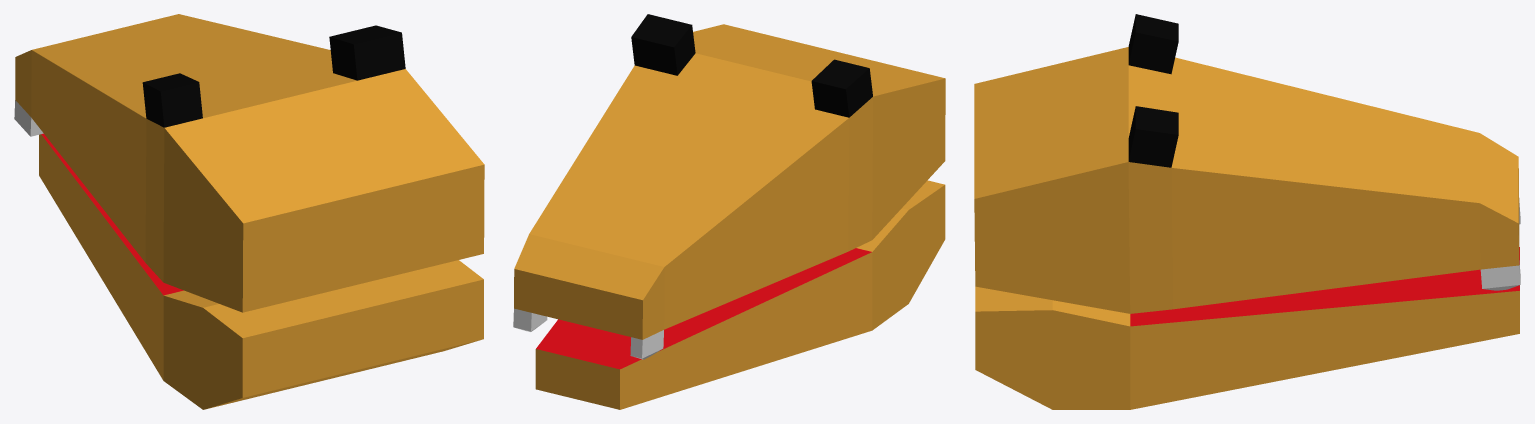
Rendered from head.fbx.
3 renders of one model, left to right at view 1: azimuth 30°, elevation 25°; view 2: azimuth 150°, elevation 25°; view 3: azimuth 270°, elevation 25°, orthographic. The views are drawn at different scales.
Parts seen in each view (by area): view 1: Cube; view 2: Cube; view 3: Cube.
Boxes of the visible parts, <box> form: Cube: <box>14,14,484,409</box>; Cube: <box>513,14,945,409</box>; Cube: <box>974,14,1520,409</box>.
Size of the model in its own units: 100 by 114 by 201.
